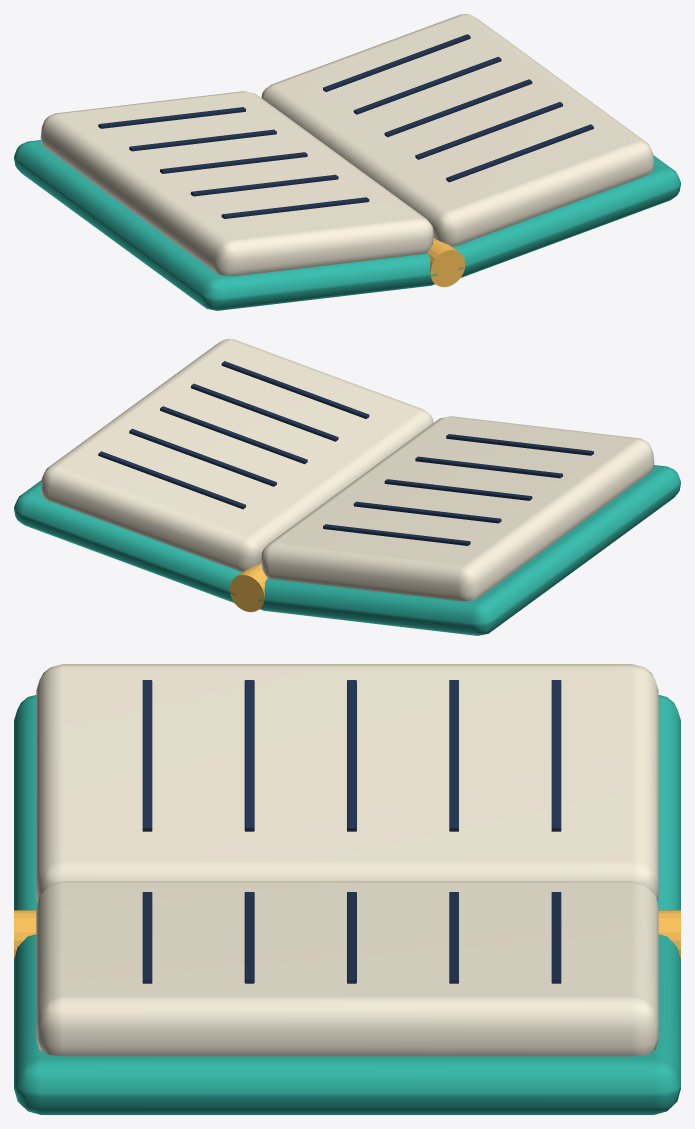
The model's file is EDU001.glb.
The picture shows the model from 3 angles, top to bottom: view 1: azimuth 30°, elevation 25°; view 2: azimuth 150°, elevation 25°; view 3: azimuth 270°, elevation 25°; orthographic projection. The views are drawn at different scales.
Parts seen in each view (by area): view 1: Page_block.001, Page_block, Cloth_cover, Cloth_cover.001, Spine, Printed_line.007, Printed_line.005, Printed_line.008, Printed_line.006, Printed_line.009, Printed_line, Printed_line.001 (+3 smaller); view 2: Page_block.001, Page_block, Cloth_cover, Cloth_cover.001, Spine, Printed_line.006, Printed_line.005, Printed_line.009, Printed_line.007, Printed_line.008, Printed_line.002, Printed_line.003 (+3 smaller); view 3: Page_block, Page_block.001, Cloth_cover.001, Cloth_cover, Printed_line.004, Printed_line, Printed_line.001, Printed_line.002, Printed_line.003, Spine, Printed_line.005, Printed_line.009 (+3 smaller).
Part boxes in pixels (x1,y1,x2,y2): Page_block.001: (261,14,654,246); Page_block: (40,91,433,276); Cloth_cover: (14,140,436,310); Cloth_cover.001: (452,155,680,277); Spine: (427,238,465,287); Printed_line.007: (384,79,532,137); Printed_line.005: (446,124,593,182); Printed_line.008: (353,56,501,114); Printed_line.006: (415,102,562,159); Printed_line.009: (323,34,470,91); Printed_line: (221,197,369,218); Printed_line.001: (190,174,338,196); Page_block.001: (40,339,433,571); Page_block: (261,416,654,601); Cloth_cover: (258,465,680,635); Cloth_cover.001: (14,480,242,602); Spine: (229,563,267,612); Printed_line.006: (190,383,338,441); Printed_line.005: (221,361,369,418); Printed_line.009: (98,451,246,509); Printed_line.007: (160,406,307,464); Printed_line.008: (129,428,276,486); Printed_line.002: (384,479,532,500); Printed_line.003: (353,501,501,523); Page_block: (36,664,658,902); Page_block.001: (36,881,658,1056); Cloth_cover.001: (14,934,680,1114); Cloth_cover: (14,695,680,910); Printed_line.004: (551,680,561,831); Printed_line: (142,680,152,831); Printed_line.001: (244,680,254,831); Printed_line.002: (347,680,356,831); Printed_line.003: (449,680,458,831); Spine: (14,910,680,958); Printed_line.005: (142,892,152,983); Printed_line.009: (551,892,561,983).
Size of the model in its own units: 2.06 by 0.3622 by 1.5.
